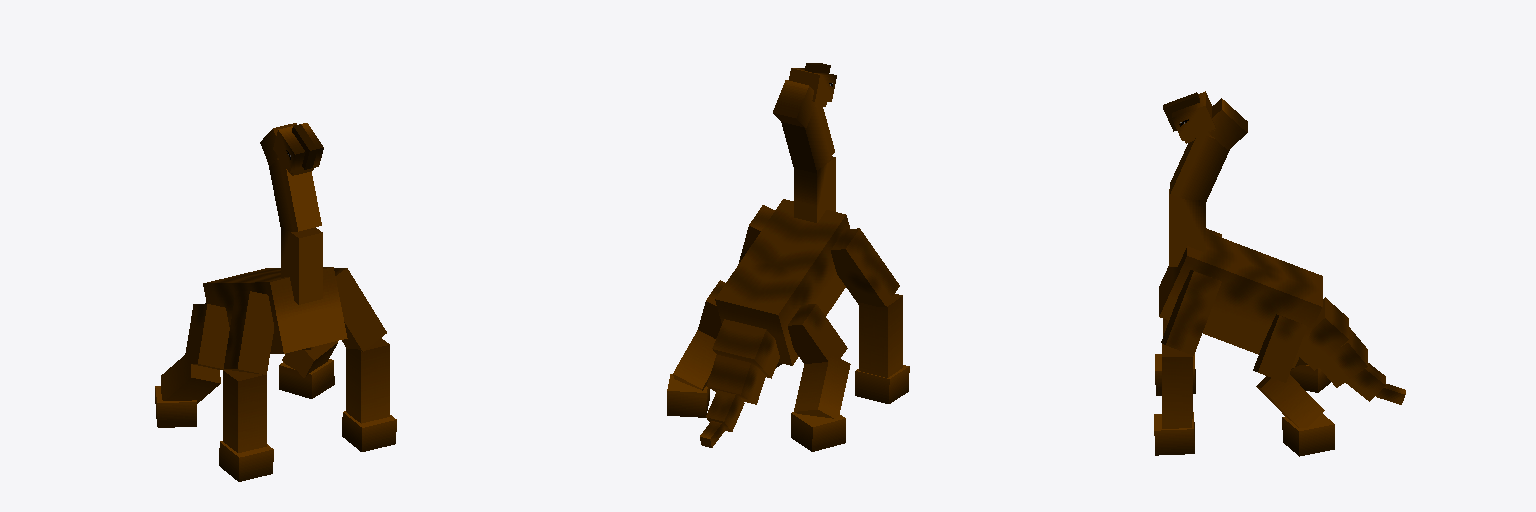
3 renders of one model, left to right at view 1: azimuth 30°, elevation 25°; view 2: azimuth 150°, elevation 25°; view 3: azimuth 270°, elevation 25°, orthographic.
Parts seen in each view (by area): view 1: Object_6, Object_40, Object_37, Object_31, Object_9, Object_12, Object_55, Object_28, Object_58, Object_34, Object_43, Object_52 (+4 smaller); view 2: Object_6, Object_37, Object_40, Object_58, Object_55, Object_64, Object_12, Object_9, Object_67, Object_61, Object_49, Object_43 (+6 smaller); view 3: Object_6, Object_28, Object_12, Object_31, Object_46, Object_9, Object_64, Object_49, Object_52, Object_67, Object_18, Object_15 (+3 smaller).
Part boxes in pixels (bbox=[...]): Object_6: bbox=[203, 267, 347, 353]; Object_40: bbox=[223, 370, 266, 452]; Object_37: bbox=[224, 291, 273, 374]; Object_31: bbox=[346, 338, 389, 423]; Object_9: bbox=[281, 225, 322, 304]; Object_12: bbox=[268, 159, 321, 231]; Object_55: bbox=[185, 304, 229, 369]; Object_28: bbox=[334, 268, 386, 351]; Object_58: bbox=[161, 351, 220, 403]; Object_34: bbox=[342, 411, 396, 451]; Object_43: bbox=[219, 441, 273, 481]; Object_52: bbox=[279, 359, 334, 398]; Object_6: bbox=[715, 199, 849, 365]; Object_37: bbox=[831, 228, 899, 306]; Object_40: bbox=[859, 294, 902, 377]; Object_58: bbox=[794, 353, 850, 418]; Object_55: bbox=[788, 304, 847, 363]; Object_64: bbox=[712, 319, 779, 378]; Object_12: bbox=[781, 105, 834, 173]; Object_9: bbox=[794, 156, 835, 222]; Object_67: bbox=[707, 355, 765, 404]; Object_61: bbox=[791, 412, 845, 451]; Object_49: bbox=[673, 330, 716, 390]; Object_43: bbox=[855, 365, 909, 403]; Object_6: bbox=[1159, 232, 1322, 367]; Object_28: bbox=[1161, 270, 1221, 355]; Object_12: bbox=[1170, 134, 1229, 201]; Object_31: bbox=[1162, 344, 1192, 428]; Object_46: bbox=[1253, 314, 1306, 382]; Object_9: bbox=[1169, 189, 1205, 266]; Object_64: bbox=[1300, 297, 1348, 370]; Object_49: bbox=[1256, 367, 1324, 427]; Object_52: bbox=[1282, 413, 1334, 456]; Object_67: bbox=[1319, 327, 1367, 387]; Object_18: bbox=[1172, 91, 1215, 140]; Object_15: bbox=[1208, 98, 1247, 149].
Bounding box in the file's own units: 8.35 × 14.59 × 10.29.
Materials: 1 (1 with a texture image).